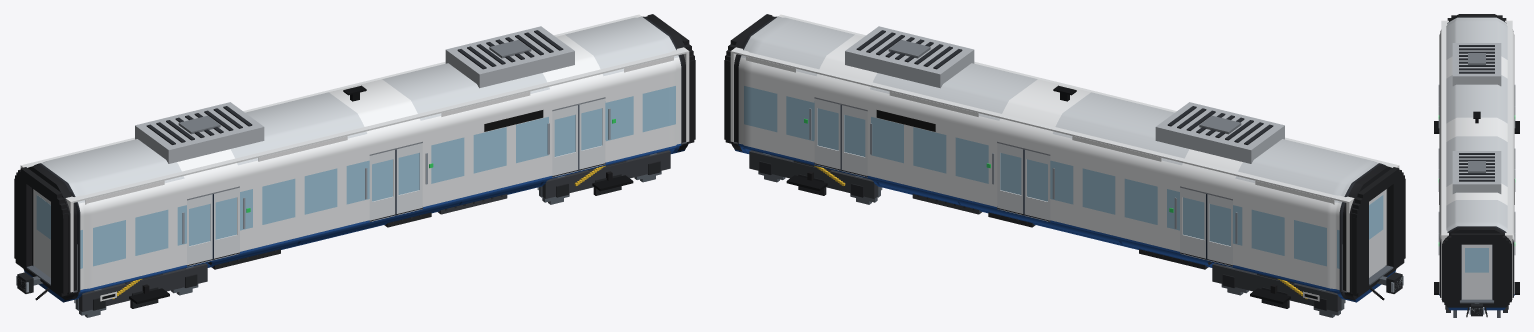
The model's file is azur_car.obj.
3 views of the same model, side by side, from view 1: azimuth 30°, elevation 25°; view 2: azimuth 150°, elevation 25°; view 3: azimuth 270°, elevation 25° (orthographic). The views are drawn at different scales.
Parts seen in each view (by area): view 1: SHELL, SHELL_roof, SHELL_diaphragm, SHELL_ceiling, BOGEY_FRONT, BOGEY_REAR, EXTERNAL_DOOR_10_CG_DR2_TOGGLE_TL_-0.67_X, EXTERNAL_DOOR_16_CG_DR3_TOGGLE_TL_-0.67_X, EXTERNAL_DOOR_4_CG_DR1_TOGGLE_TL_-0.67_X, EXTERNAL_DOOR_11_CG_DR2_TOGGLE_TL_0.67_X, EXTERNAL_DOOR_17_CG_DR3_TOGGLE_TL_0.67_X, EXTERNAL_DOOR_5_CG_DR1_TOGGLE_TL_0.67_X (+6 smaller); view 2: SHELL, SHELL_roof, SHELL_diaphragm, SHELL_ceiling, BOGEY_FRONT, BOGEY_REAR, EXTERNAL_DOOR_13_CG_DL2_TOGGLE_TL_-0.67_X, EXTERNAL_DOOR_19_CG_DL3_TOGGLE_TL_-0.67_X, EXTERNAL_DOOR_7_CG_DL1_TOGGLE_TL_-0.67_X, EXTERNAL_DOOR_14_CG_DL2_TOGGLE_TL_0.67_X, EXTERNAL_DOOR_20_CG_DL3_TOGGLE_TL_0.67_X, EXTERNAL_DOOR_8_CG_DL1_TOGGLE_TL_0.67_X (+6 smaller); view 3: SHELL, SHELL_roof, SHELL_diaphragm, SHELL_ceiling, CONNECTING_DOOR_2_CG_CF_TOGGLE_TL_0.98_Z, SHELL_handle, FRAME, SHELL_end, BOGEY_FRONT, BOGEY_REAR, SHELL_gangway, SHELL_floor.
Part boxes in pixels (x1,y1,x2,y2): SHELL: (23,15,690,302); SHELL_roof: (135,26,574,163); SHELL_diaphragm: (14,14,695,296); SHELL_ceiling: (23,15,686,202); BOGEY_FRONT: (542,150,670,198); BOGEY_REAR: (79,263,207,311); EXTERNAL_DOOR_10_CG_DR2_TOGGLE_TL_-0.67_X: (369,149,396,220); EXTERNAL_DOOR_16_CG_DR3_TOGGLE_TL_-0.67_X: (552,105,579,175); EXTERNAL_DOOR_4_CG_DR1_TOGGLE_TL_-0.67_X: (187,194,213,265); EXTERNAL_DOOR_11_CG_DR2_TOGGLE_TL_0.67_X: (396,143,422,213); EXTERNAL_DOOR_17_CG_DR3_TOGGLE_TL_0.67_X: (579,98,605,169); EXTERNAL_DOOR_5_CG_DR1_TOGGLE_TL_0.67_X: (214,187,239,258); SHELL: (729,15,1396,302); SHELL_roof: (845,26,1284,163); SHELL_diaphragm: (724,14,1405,296); SHELL_ceiling: (733,15,1396,202); BOGEY_FRONT: (749,150,877,198); BOGEY_REAR: (1212,263,1340,311); EXTERNAL_DOOR_13_CG_DL2_TOGGLE_TL_-0.67_X: (1023,149,1050,220); EXTERNAL_DOOR_19_CG_DL3_TOGGLE_TL_-0.67_X: (840,105,867,175); EXTERNAL_DOOR_7_CG_DL1_TOGGLE_TL_-0.67_X: (1206,194,1232,265); EXTERNAL_DOOR_14_CG_DL2_TOGGLE_TL_0.67_X: (997,143,1023,213); EXTERNAL_DOOR_20_CG_DL3_TOGGLE_TL_0.67_X: (814,98,840,169); EXTERNAL_DOOR_8_CG_DL1_TOGGLE_TL_0.67_X: (1180,187,1205,258); SHELL: (1439,14,1514,310); SHELL_roof: (1452,43,1501,193); SHELL_diaphragm: (1442,15,1511,304); SHELL_ceiling: (1441,21,1512,234); CONNECTING_DOOR_2_CG_CF_TOGGLE_TL_0.98_Z: (1462,244,1491,299); SHELL_handle: (1438,85,1515,254); FRAME: (1466,303,1487,317); SHELL_end: (1441,20,1512,299); BOGEY_FRONT: (1434,282,1519,312); BOGEY_REAR: (1434,121,1519,133); SHELL_gangway: (1460,298,1493,302); SHELL_floor: (1461,244,1492,298).
Size of the model in its own units: 18.14 by 3.91 by 2.84.
Materials: 1 (1 with a texture image).
